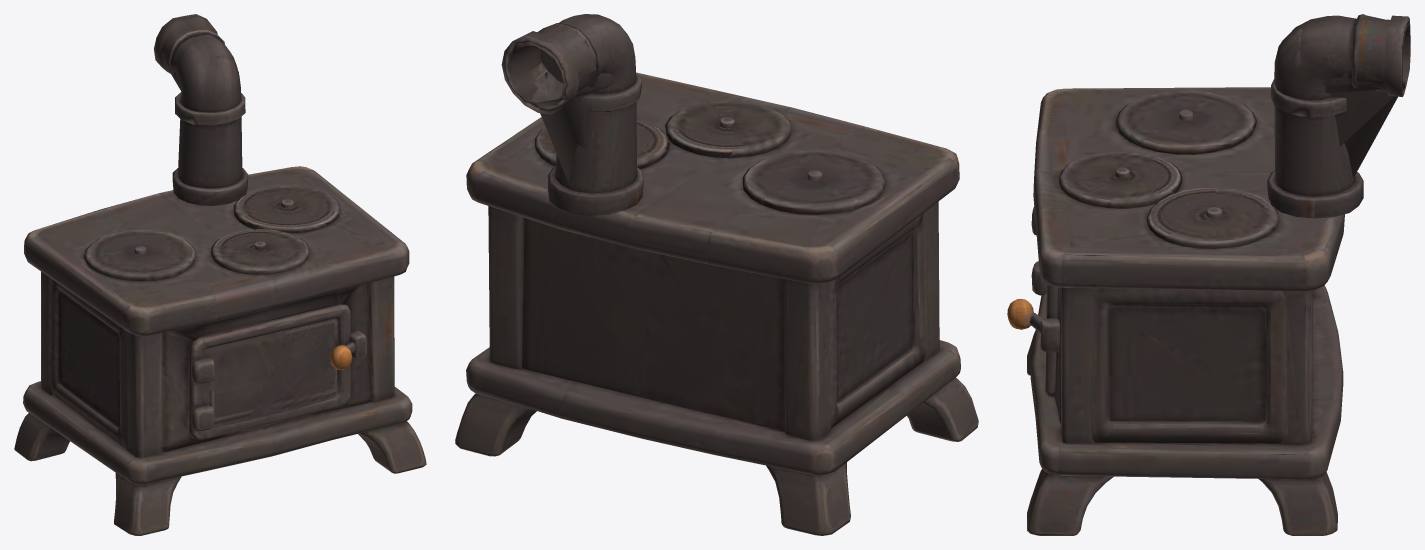
File: stove.glb
The picture shows the model from 3 angles, left to right: view 1: azimuth 30°, elevation 25°; view 2: azimuth 150°, elevation 25°; view 3: azimuth 270°, elevation 25°; orthographic projection. The views are drawn at different scales.
Bounding box in the file's own units: 0.8605 × 1 × 0.8035.
1 material, 1 textured.
